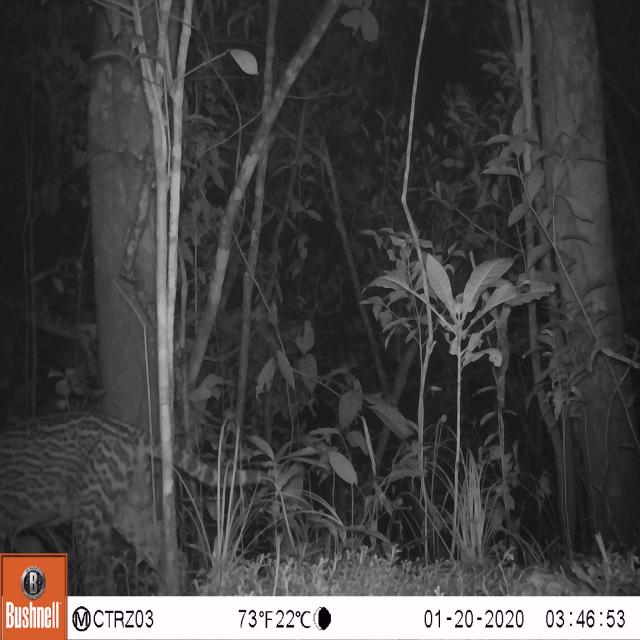Ocelote: (0, 393, 280, 593)
